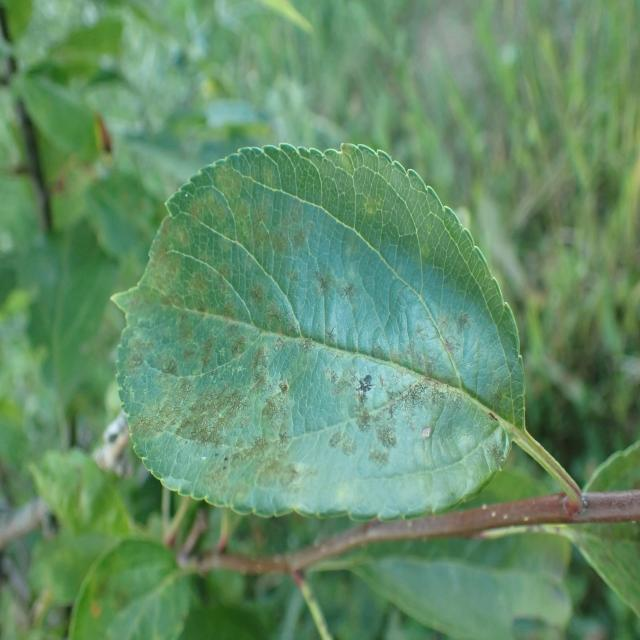scab: (92, 160, 524, 502)
